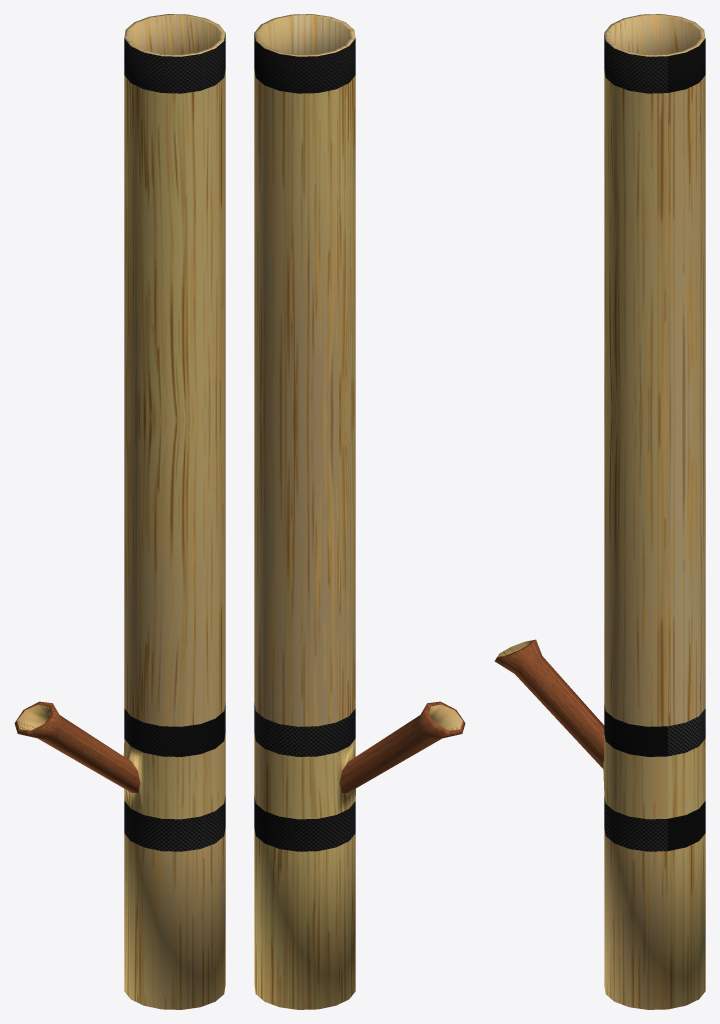
File: Smoke Pipe.fbx
The picture shows the model from 3 angles, left to right: view 1: azimuth 30°, elevation 25°; view 2: azimuth 150°, elevation 25°; view 3: azimuth 330°, elevation 25°; orthographic projection.
Visible parts, largest first — view 1: Cylinder.010; view 2: Cylinder.010; view 3: Cylinder.010.
Part boxes in pixels (x1,y1,x2,y2): Cylinder.010: [14, 14, 225, 1009]; Cylinder.010: [254, 14, 465, 1009]; Cylinder.010: [494, 14, 705, 1009].
Size of the model in its own units: 8.75 by 3.84 by 39.56.
3 materials, 3 textured.
